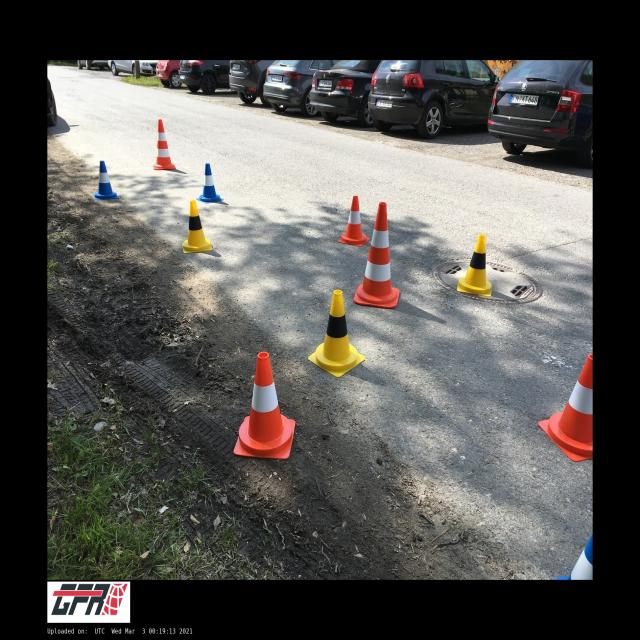blue_cone: (554, 535, 592, 580), (196, 162, 224, 204), (93, 161, 119, 200)
large_orange_cone: (354, 202, 399, 308), (152, 119, 175, 170)
orange_cone: (234, 352, 295, 459), (538, 354, 593, 462), (338, 196, 370, 246)
yellow_cone: (308, 290, 365, 377), (457, 234, 492, 296), (182, 200, 212, 253)
